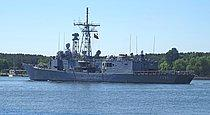MIL_Ship: (22, 29, 196, 85)
